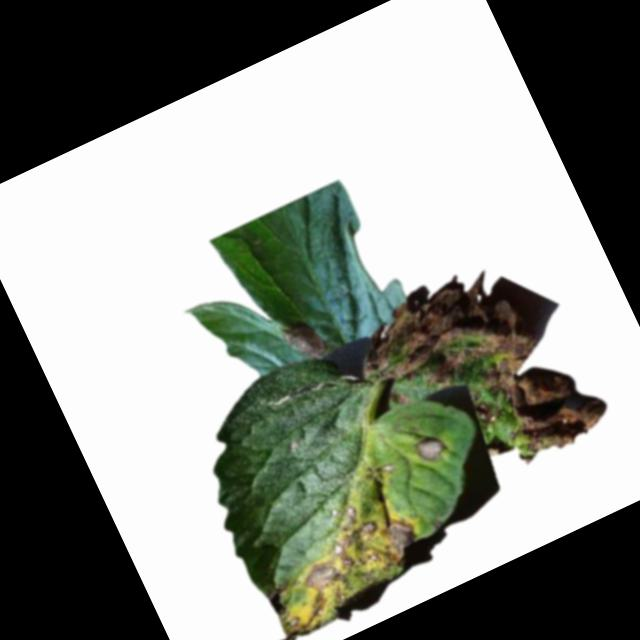Early_blight: (345, 244, 613, 511), (248, 487, 435, 640), (274, 312, 330, 368), (409, 429, 449, 469)
